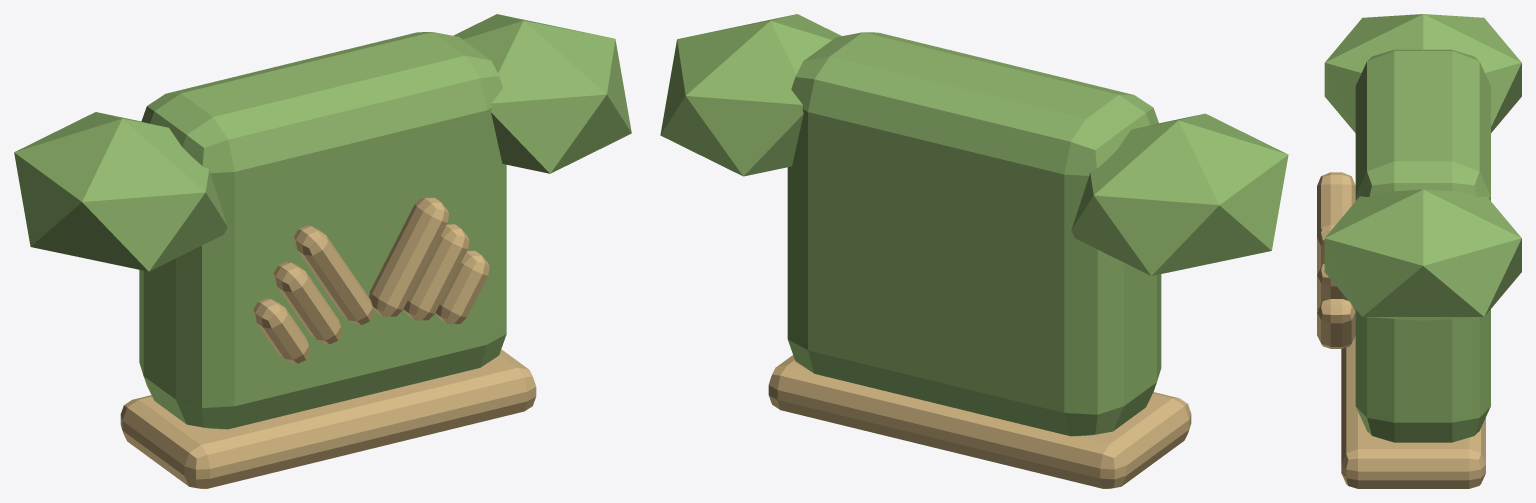
Rendered from arm_lance_armor.glb.
The picture shows the model from 3 angles, left to right: view 1: azimuth 30°, elevation 25°; view 2: azimuth 150°, elevation 25°; view 3: azimuth 270°, elevation 25°; orthographic projection. The views are drawn at different scales.
Visible parts, largest first — view 1: arm_lance_armor; view 2: arm_lance_armor; view 3: arm_lance_armor.
Boxes of the visible parts, x1=… form: arm_lance_armor: x1=14, y1=14, x2=631, y2=488; arm_lance_armor: x1=660, y1=14, x2=1288, y2=488; arm_lance_armor: x1=1317, y1=14, x2=1521, y2=488.
Bounding box in the file's own units: 1.25 × 0.725 × 0.4242.
